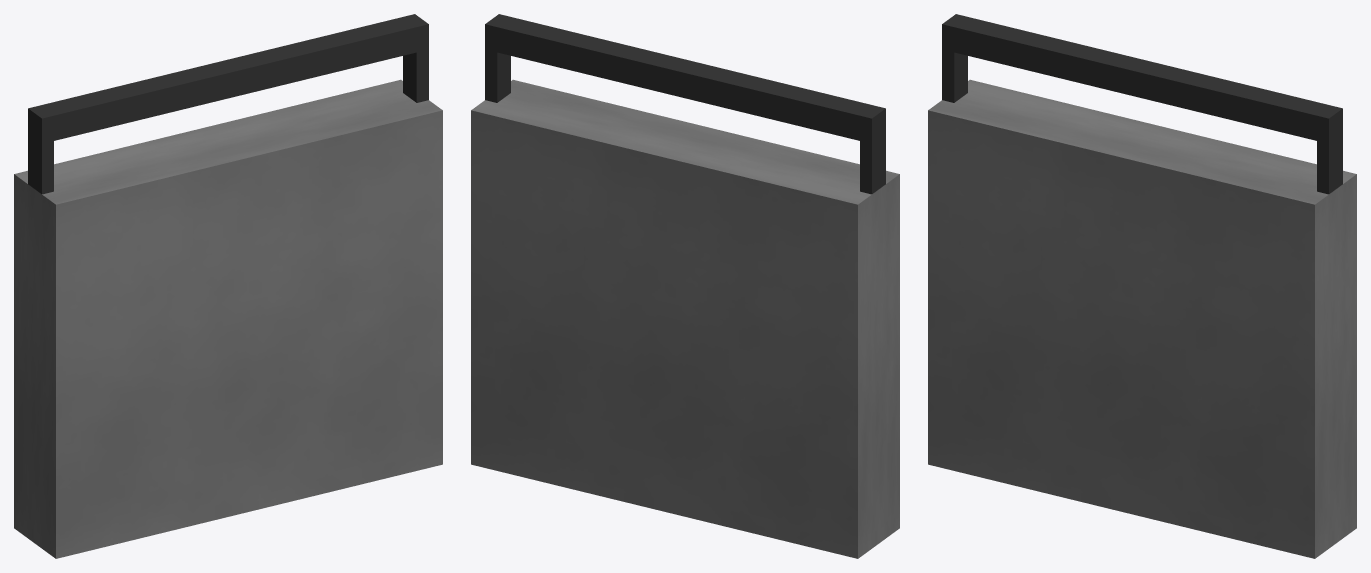
The model's file is dc_metro_fence_010.obj.
3 views of the same model, side by side, from view 1: azimuth 30°, elevation 25°; view 2: azimuth 150°, elevation 25°; view 3: azimuth 330°, elevation 25° (orthographic).
Parts seen in each view (by area): view 1: cube; view 2: cube; view 3: cube.
Part boxes in pixels (<box>): cube: <box>14,14,442,558</box>; cube: <box>471,14,899,558</box>; cube: <box>928,14,1356,558</box>.
Size of the model in its own units: 1 by 1.06 by 0.1875.
2 materials, 2 textured.
